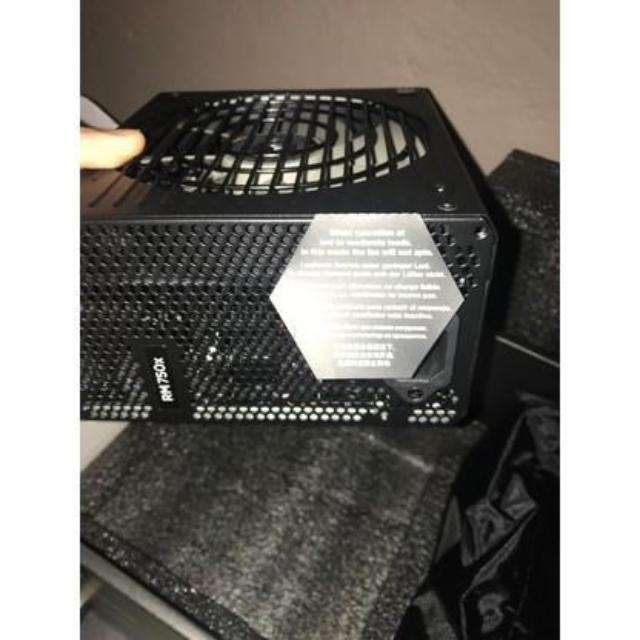PSU: (80, 76, 502, 447)
